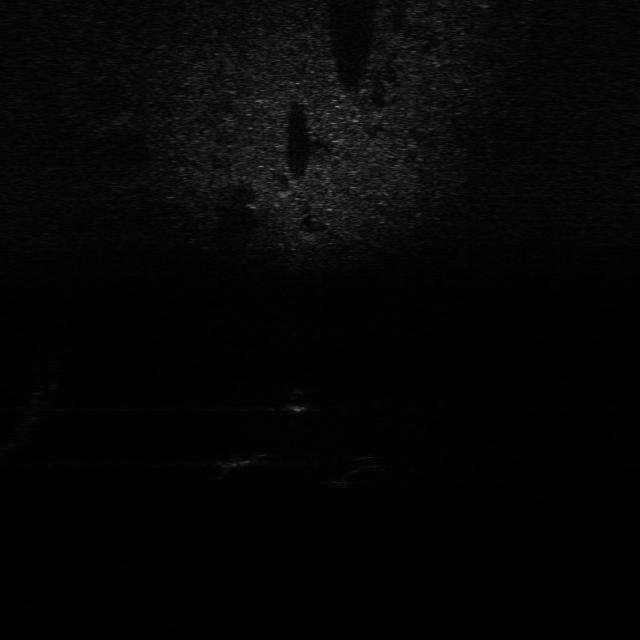ball: (280, 387, 320, 413)
square cage: (210, 446, 276, 468)
tyre: (331, 450, 392, 491)
